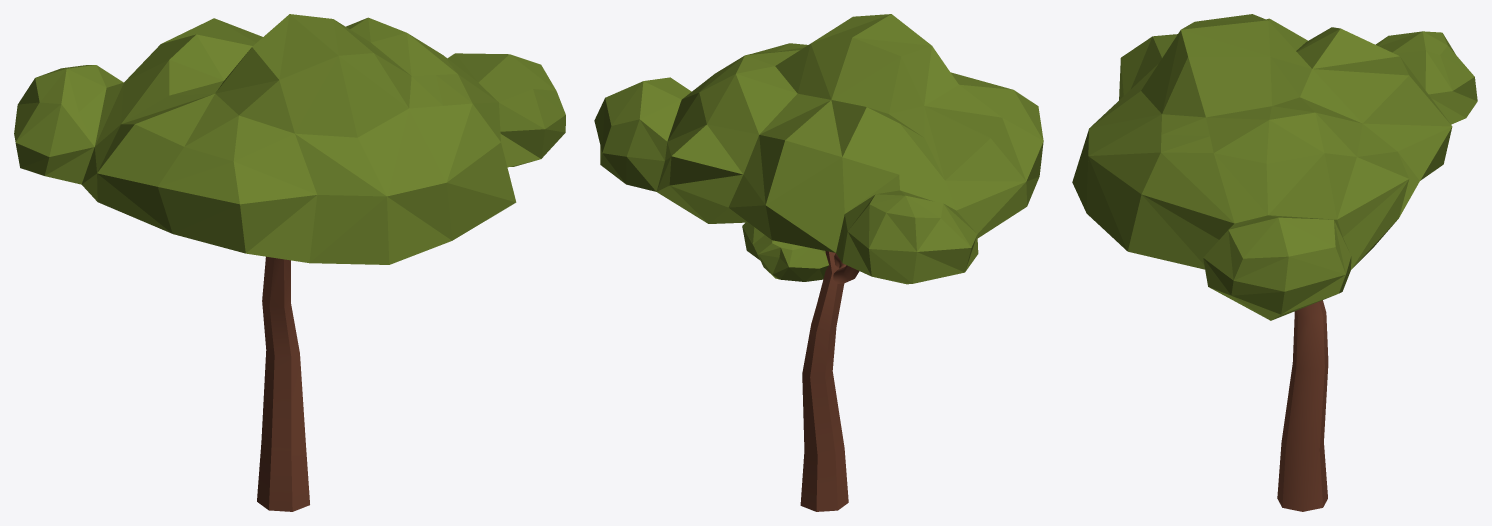
File: TREE_1.FBX
The picture shows the model from 3 angles, left to right: view 1: azimuth 30°, elevation 25°; view 2: azimuth 150°, elevation 25°; view 3: azimuth 270°, elevation 25°; orthographic projection. The views are drawn at different scales.
Parts seen in each view (by area): view 1: Cylinder002; view 2: Cylinder002; view 3: Cylinder002.
Boxes of the visible parts, x1,y1,x2,y2 form: Cylinder002: (14,14,565,511); Cylinder002: (594,14,1043,511); Cylinder002: (1072,14,1477,511).
Bounding box in the file's own units: 255 × 256 × 198.
